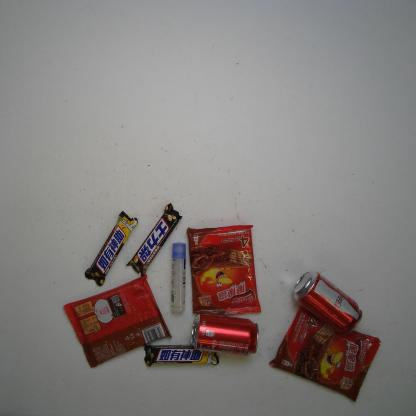Chocolate: (83, 209, 139, 286), (126, 202, 183, 276), (142, 342, 223, 367)
Dessert: (270, 302, 382, 403), (62, 274, 173, 369), (184, 226, 262, 318)
Drink: (293, 270, 363, 335), (189, 312, 261, 354)
Stationery: (169, 242, 187, 315)
